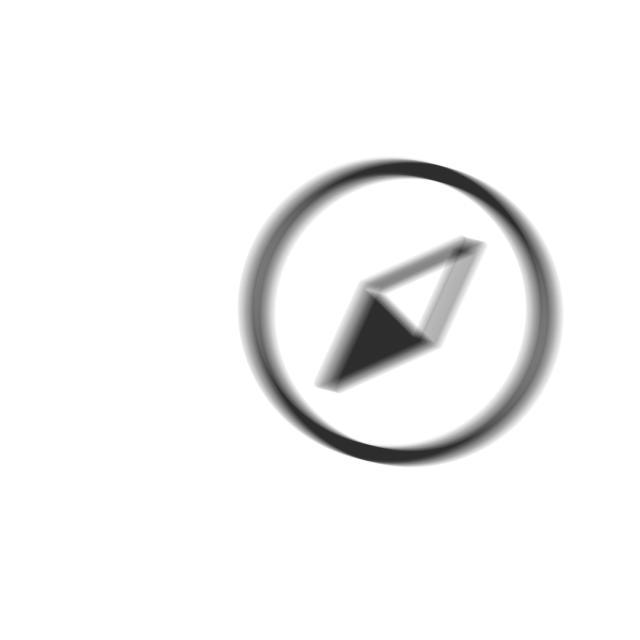compass: (234, 148, 573, 488)
